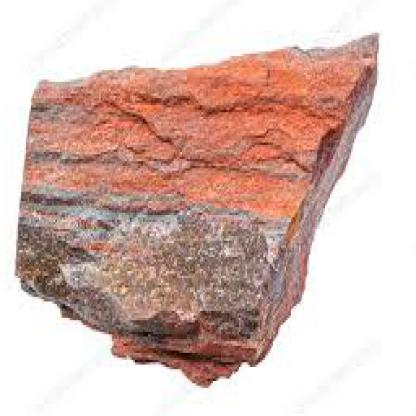Metamorphic_Quartize: (10, 21, 378, 390)
